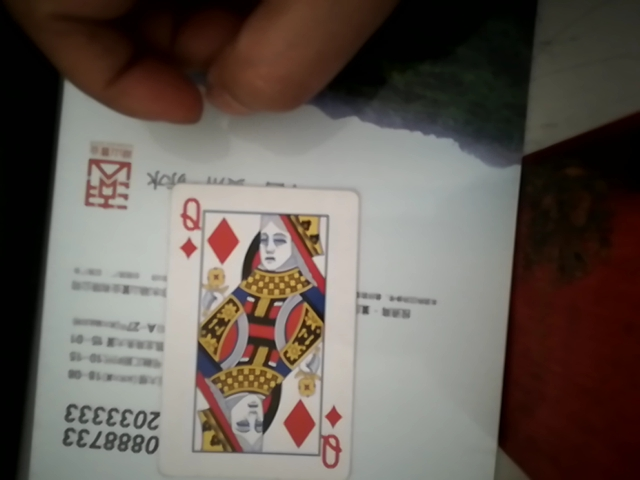fk q: (158, 178, 363, 469)
